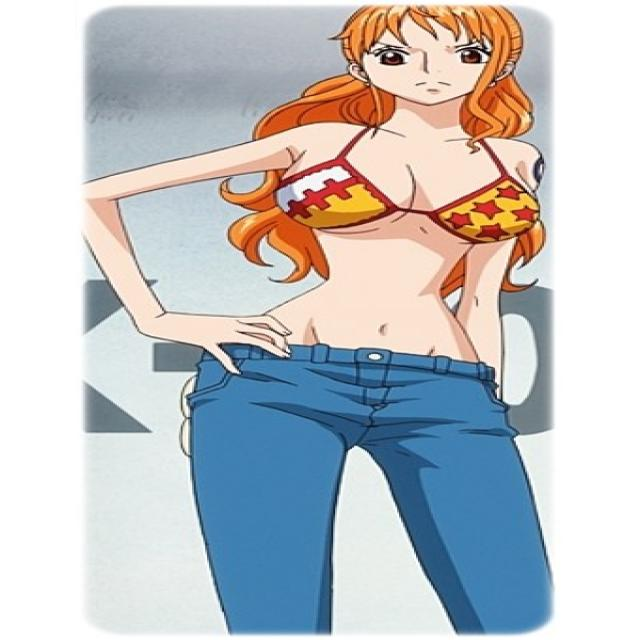Nami: (315, 0, 522, 116)
